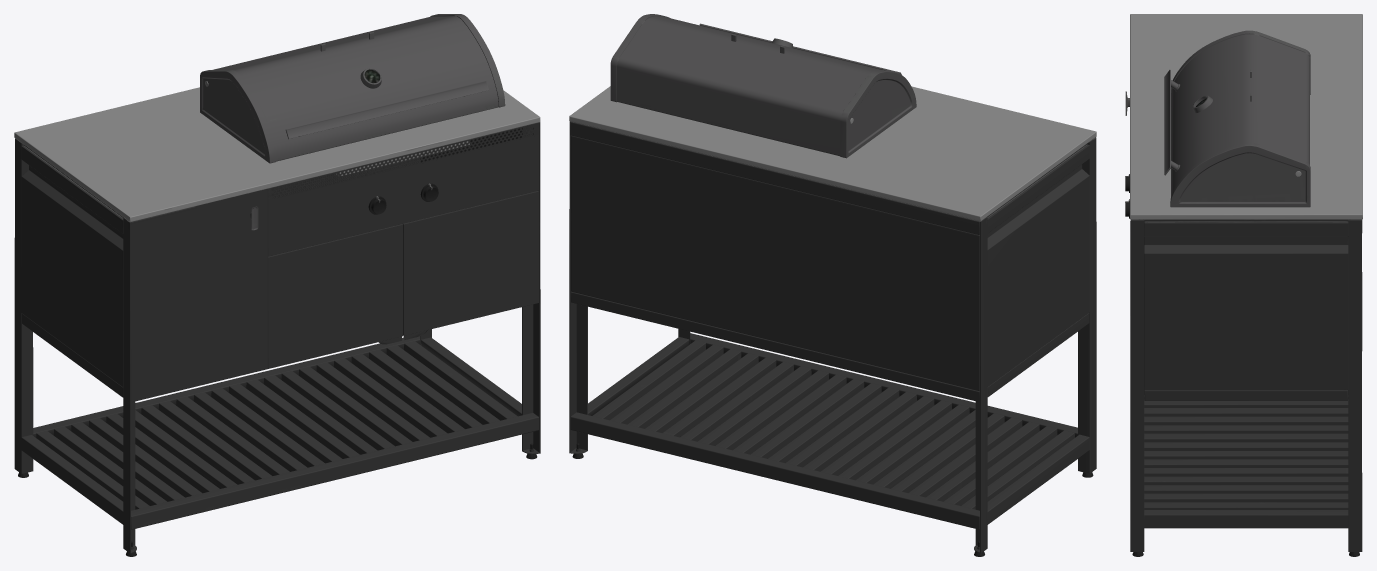
3 views of the same model, side by side, from view 1: azimuth 30°, elevation 25°; view 2: azimuth 150°, elevation 25°; view 3: azimuth 270°, elevation 25° (orthographic).
Visible parts, largest first — view 1: Mesh_0, Mesh_1; view 2: Mesh_0; view 3: Mesh_0.
Boxes of the visible parts, left/top/right/bottom form: Mesh_0: left=14, top=14, right=540, bottom=556; Mesh_1: left=268, top=123, right=538, bottom=200; Mesh_0: left=569, top=14, right=1096, bottom=556; Mesh_0: left=1125, top=14, right=1362, bottom=556.
Bounding box in the file's own units: 1.2 × 1.14 × 0.6.
3 materials, 3 textured.
